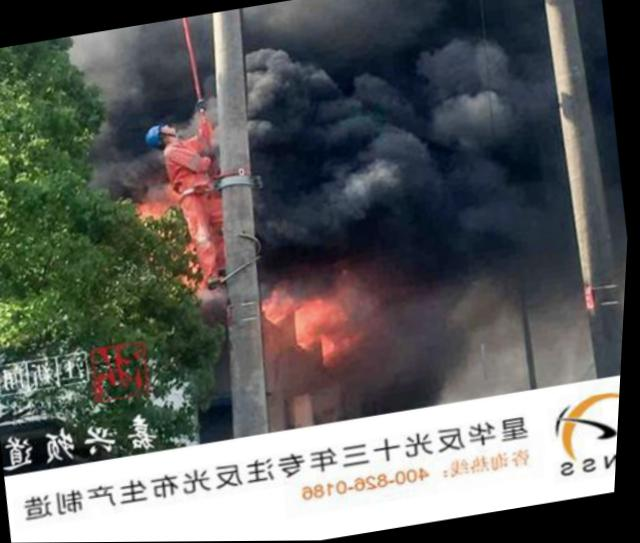fire: (294, 293, 353, 359), (136, 193, 177, 222), (266, 283, 298, 320)
